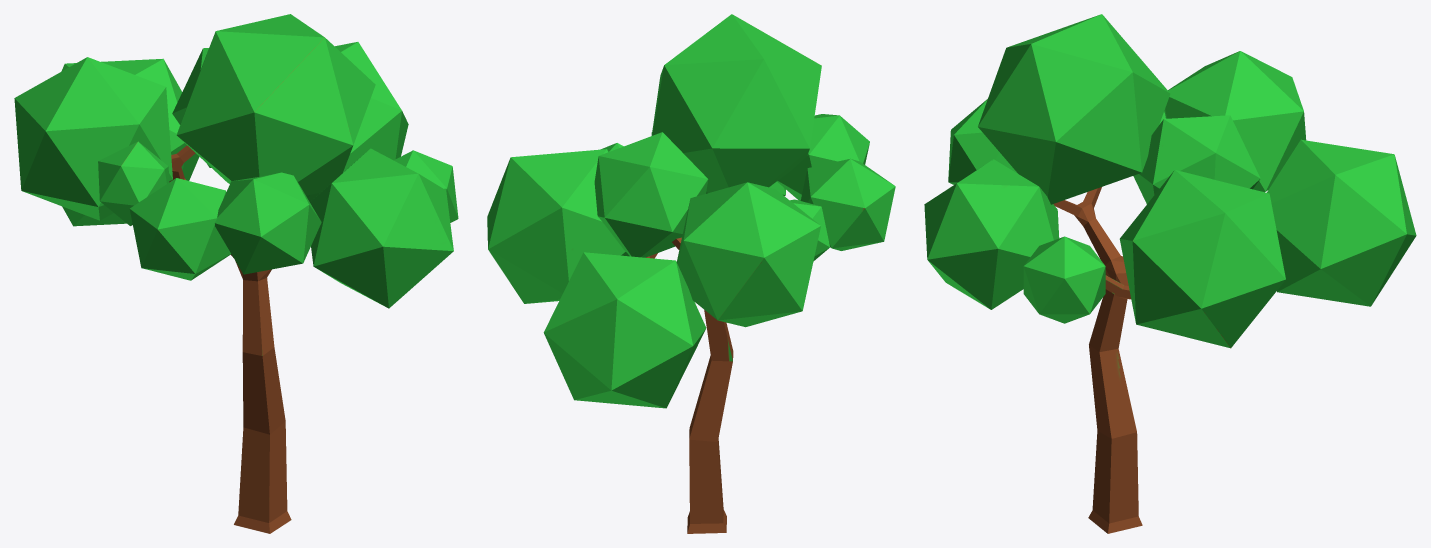
Rendered from mahoganyTree.fbx.
3 views of the same model, side by side, from view 1: azimuth 30°, elevation 25°; view 2: azimuth 150°, elevation 25°; view 3: azimuth 270°, elevation 25° (orthographic). The views are drawn at different scales.
Parts seen in each view (by area): view 1: mahoganyTree; view 2: mahoganyTree; view 3: mahoganyTree.
Part boxes in pixels (left/top/right/bottom): mahoganyTree: left=14, top=14, right=458, bottom=533; mahoganyTree: left=487, top=14, right=895, bottom=533; mahoganyTree: left=924, top=14, right=1416, bottom=533.
Bounding box in the file's own units: 309 × 417 × 382.
1 material, 1 textured.
